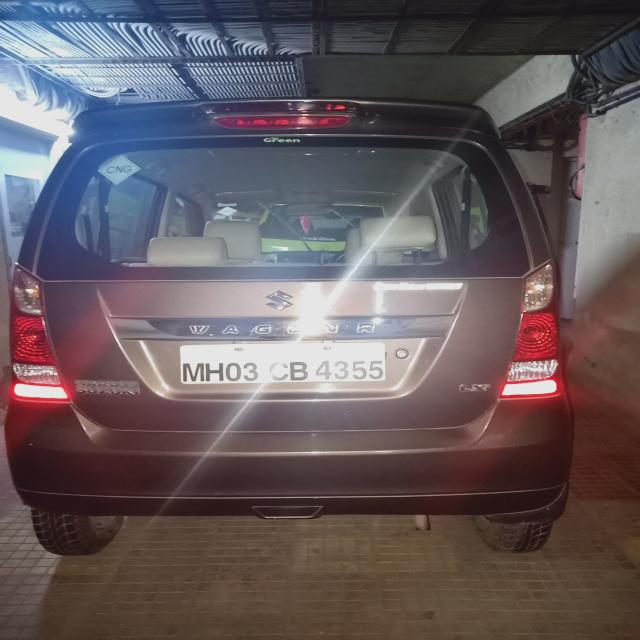Number-Plate: (180, 341, 387, 384)
